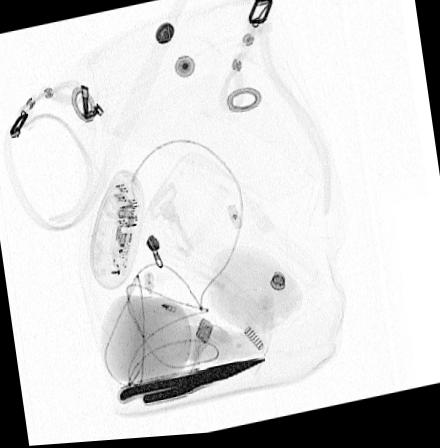Pliers: (118, 358, 269, 409)
